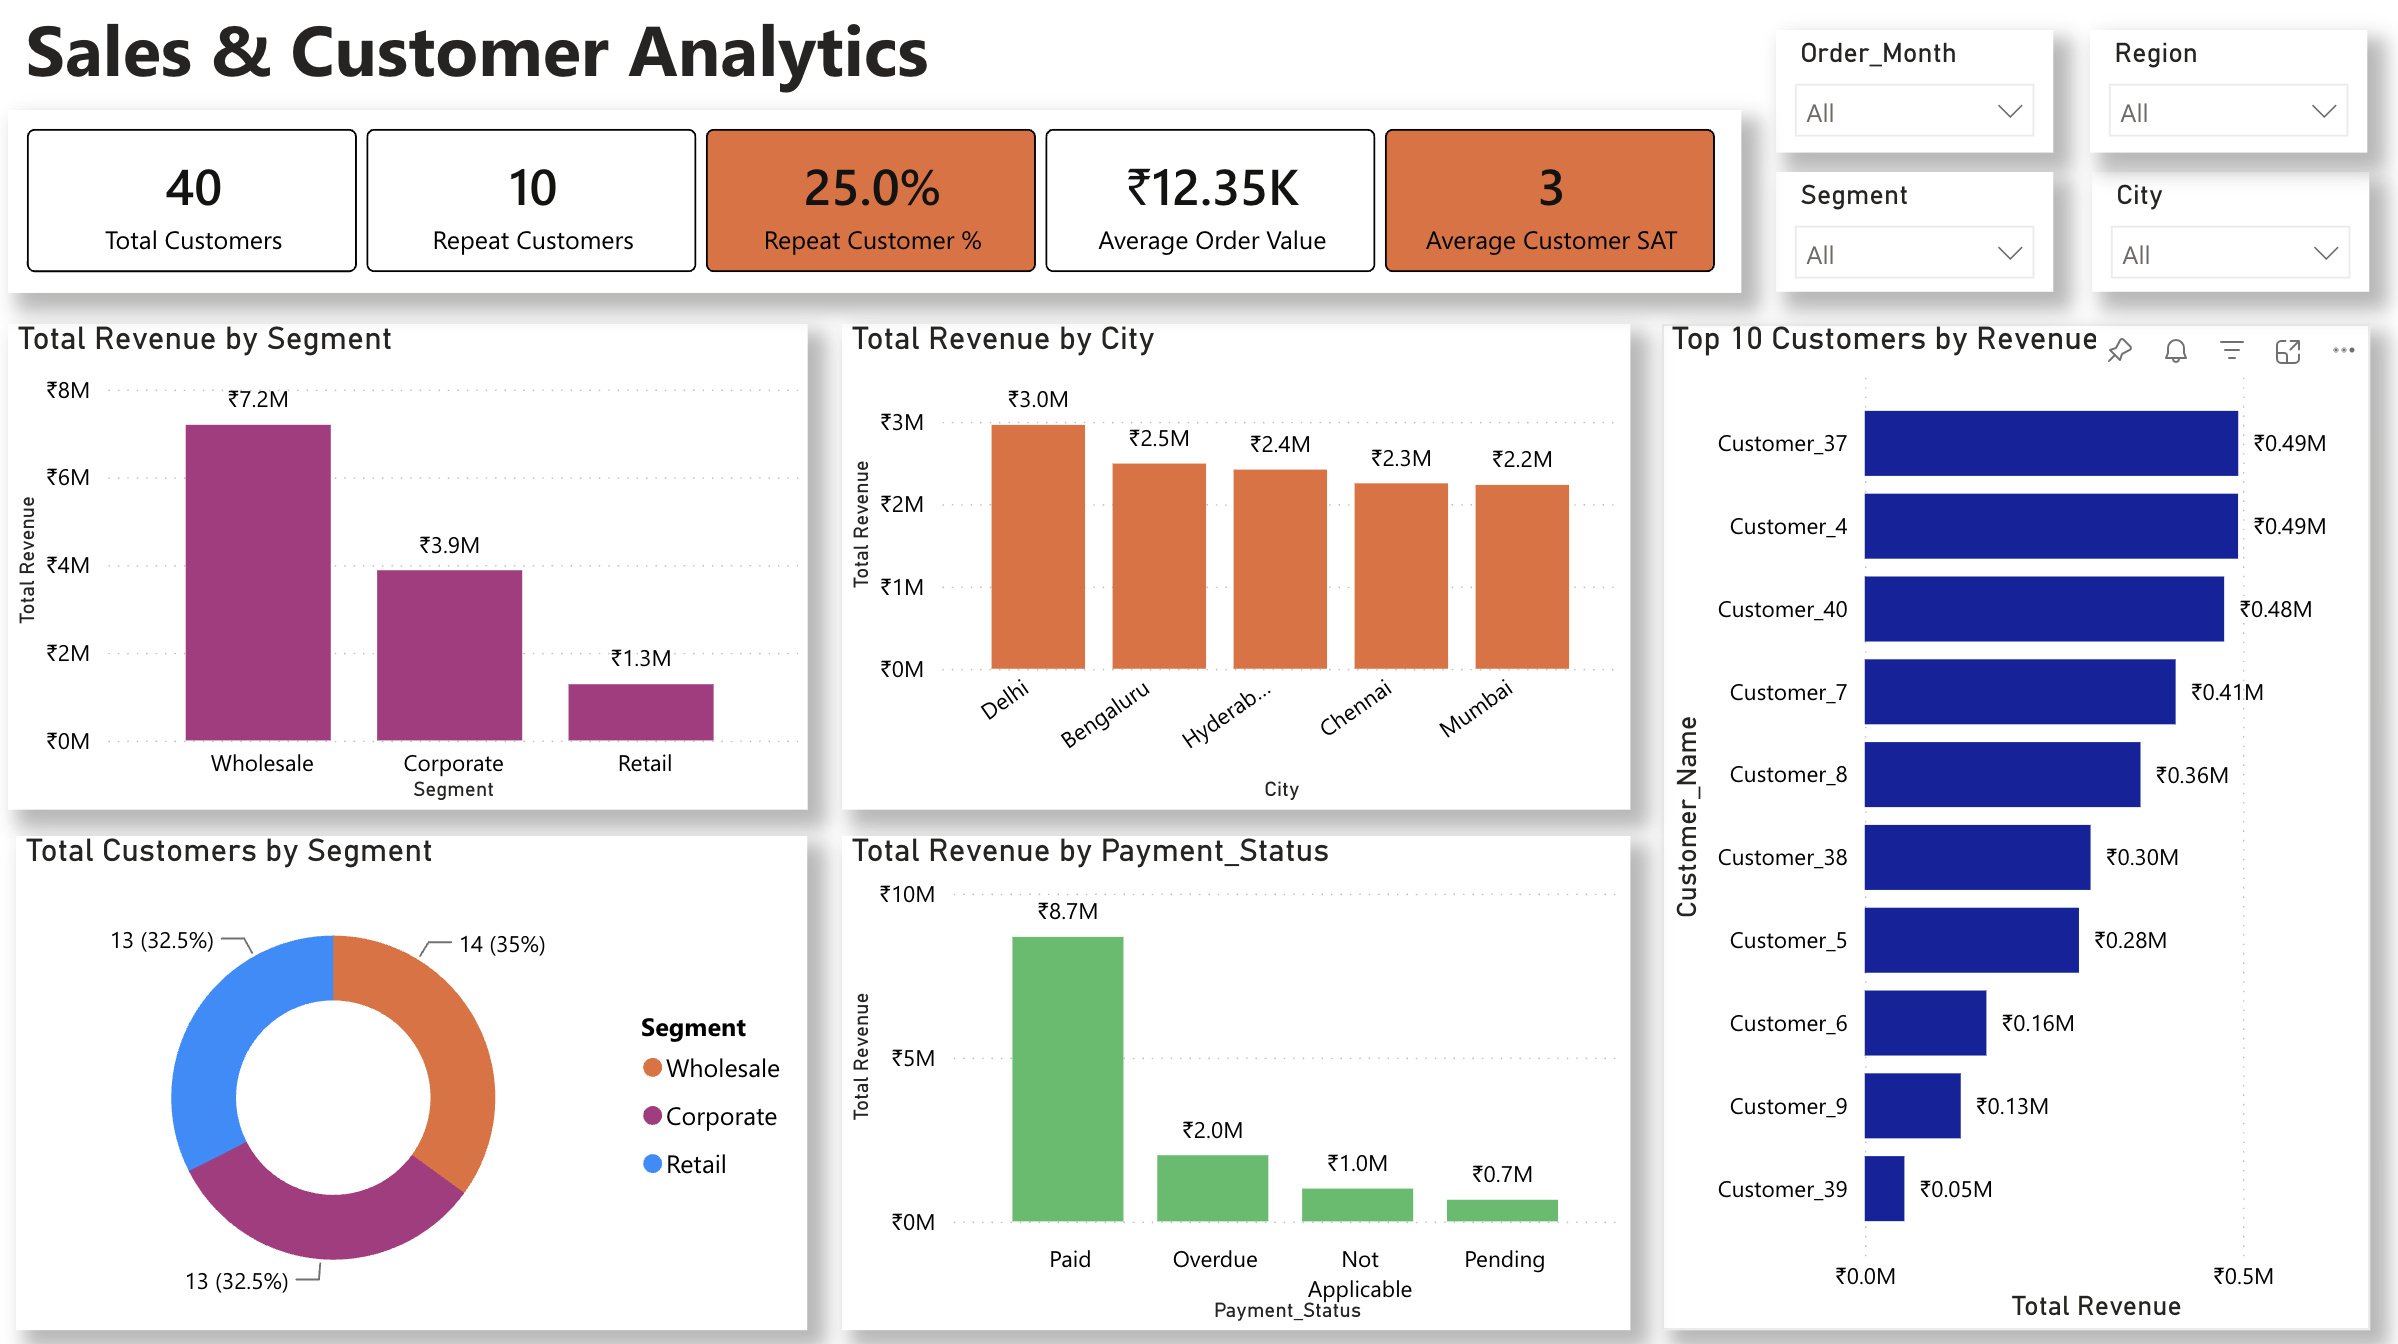

What the dashboard file says about the page in this screenshot:
{"tool":"powerbi","page":{"name":"Sales & Customer Analytics","canvas":[1280,720],"ordinal":1},"visuals":[{"type":"textbox","box":[15.1,0,504.2,63.6],"z":0},{"type":"clusteredColumnChart","fields":{"Category":["Orders.Segment"],"Y":["Orders.Total Revenue"]},"box":[10.6,177.2,424,257.4],"z":6000},{"type":"barChart","title":"Top 10 Customers by Revenue","fields":{"Category":["Orders.Customer_Name"],"Y":["Orders.Total Revenue"]},"box":[887.3,177.2,375.5,542.1],"z":7000},{"type":"clusteredColumnChart","fields":{"Category":["Orders.City"],"Y":["Orders.Total Revenue"]},"box":[452.7,177.2,417.9,257.4],"z":8000},{"type":"donutChart","fields":{"Category":["Orders.Segment"],"Y":["Orders.Total Customers"]},"box":[15.1,448.2,419.4,262],"z":9000},{"type":"columnChart","fields":{"Category":["Orders.Payment_Status"],"Y":["Orders.Total Revenue"]},"box":[452.7,448.2,417.9,262],"z":10000},{"type":"slicer","fields":{"Values":["Orders.Order_Month"]},"box":[947.9,21.2,146.9,65.1],"z":11000},{"type":"slicer","fields":{"Values":["Orders.City"]},"box":[1116,96.9,146.9,63.6],"z":12000},{"type":"slicer","fields":{"Values":["Orders.Segment"]},"box":[947.9,96.9,146.9,63.6],"z":13000},{"type":"slicer","fields":{"Values":["Orders.Region"]},"box":[1114.5,21.2,146.9,65.1],"z":14000},{"type":"cardVisual","fields":{"Data":["Orders.Total Customers","Orders.Repeat Customers","Orders.Repeat Customer %","Orders.Average Order Value","Orders.Average Customer SAT"]},"box":[10.6,63.6,919.1,96.9],"z":14001}]}

Visuals, with their boxes in screenshot pixels (x1, y1, x2, y2), scaled from the page's 1280x720 canvas onto the 2398x1344 screenshot:
textbox: 28, 0, 973, 119
clusteredColumnChart - Orders.Segment x Orders.Total Revenue: 20, 331, 814, 811
"Top 10 Customers by Revenue" barChart: 1662, 331, 2366, 1343
clusteredColumnChart - Orders.City x Orders.Total Revenue: 848, 331, 1631, 811
donutChart - Orders.Segment x Orders.Total Customers: 28, 837, 814, 1326
columnChart - Orders.Payment_Status x Orders.Total Revenue: 848, 837, 1631, 1326
slicer - Orders.Order_Month: 1776, 40, 2051, 161
slicer - Orders.City: 2091, 181, 2366, 300
slicer - Orders.Segment: 1776, 181, 2051, 300
slicer - Orders.Region: 2088, 40, 2363, 161
cardVisual - Orders.Total Customers x Orders.Repeat Customers: 20, 119, 1742, 300
